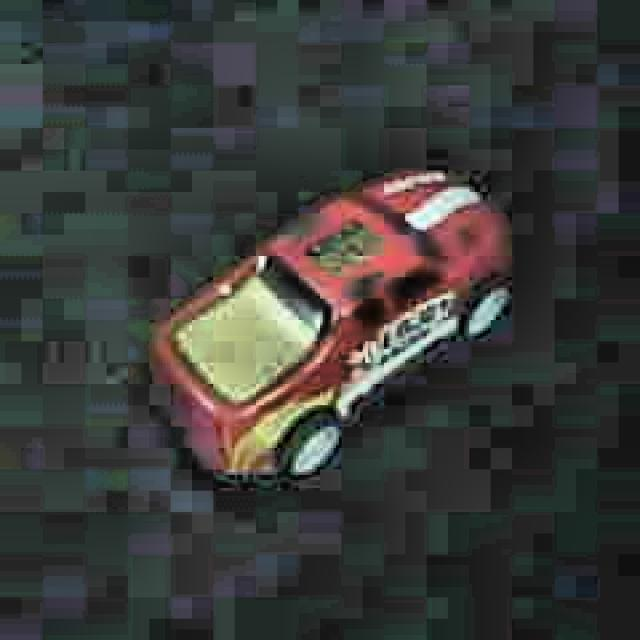car: (149, 163, 517, 485)
